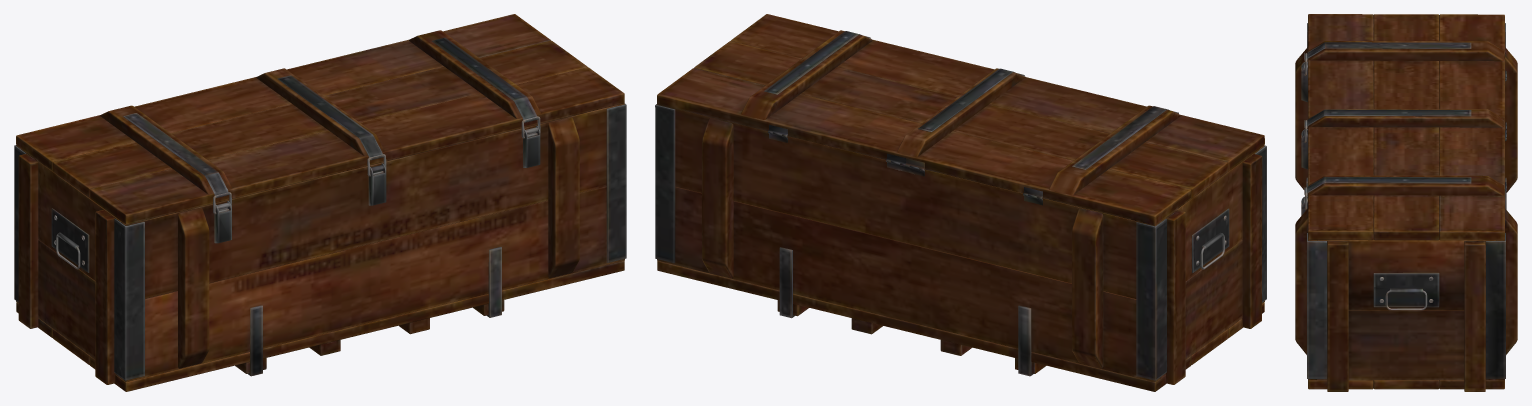
The model's file is wooden_military_crate.glb.
3 views of the same model, side by side, from view 1: azimuth 30°, elevation 25°; view 2: azimuth 150°, elevation 25°; view 3: azimuth 270°, elevation 25° (orthographic). The views are drawn at different scales.
Parts seen in each view (by area): view 1: wooden_military_crate, wooden_military_crate_lid; view 2: wooden_military_crate, wooden_military_crate_lid; view 3: wooden_military_crate_lid, wooden_military_crate.
Part boxes in pixels (bbox=[...]): wooden_military_crate: bbox=[14, 103, 626, 391]; wooden_military_crate_lid: bbox=[16, 14, 624, 224]; wooden_military_crate: bbox=[655, 104, 1266, 391]; wooden_military_crate_lid: bbox=[657, 14, 1264, 225]; wooden_military_crate_lid: bbox=[1304, 14, 1506, 240]; wooden_military_crate: bbox=[1295, 23, 1517, 391].
Bounding box in the file's own units: 1.24 × 0.4647 × 0.5198.
1 material, 1 textured.
